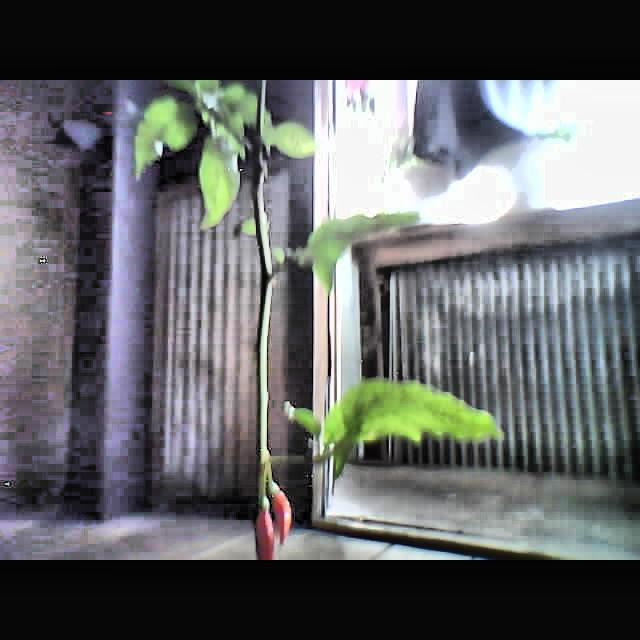Cabai: (255, 474, 300, 560)
